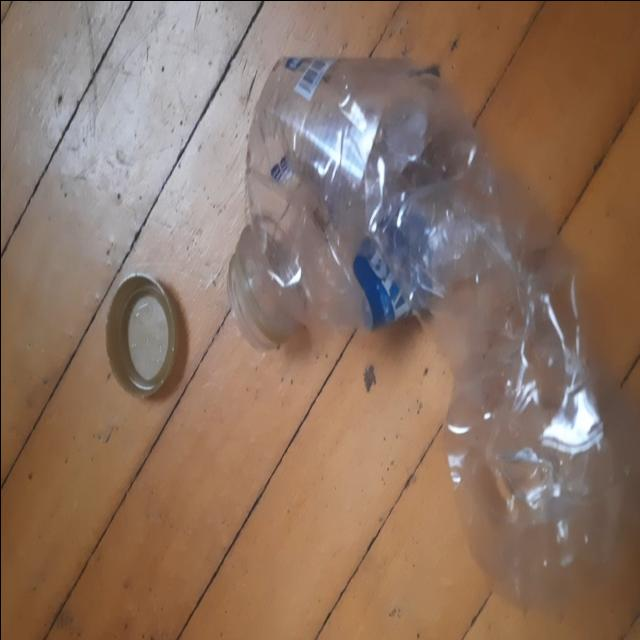Plastic: (234, 55, 630, 616)
